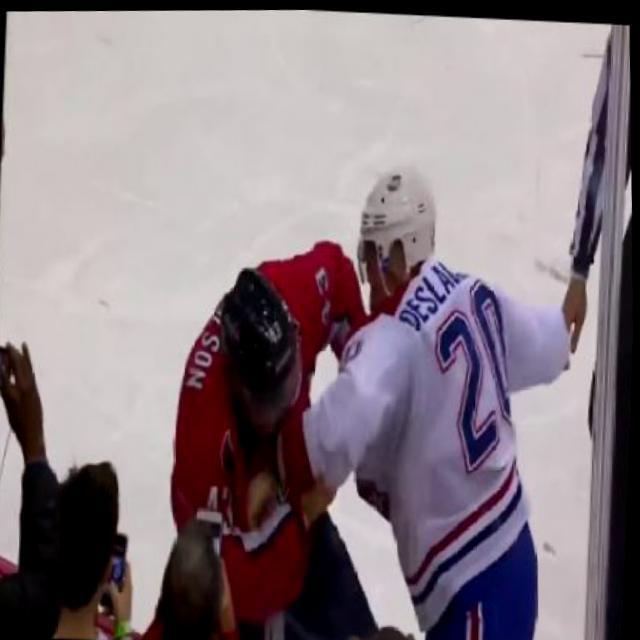fight: (146, 136, 595, 640)
